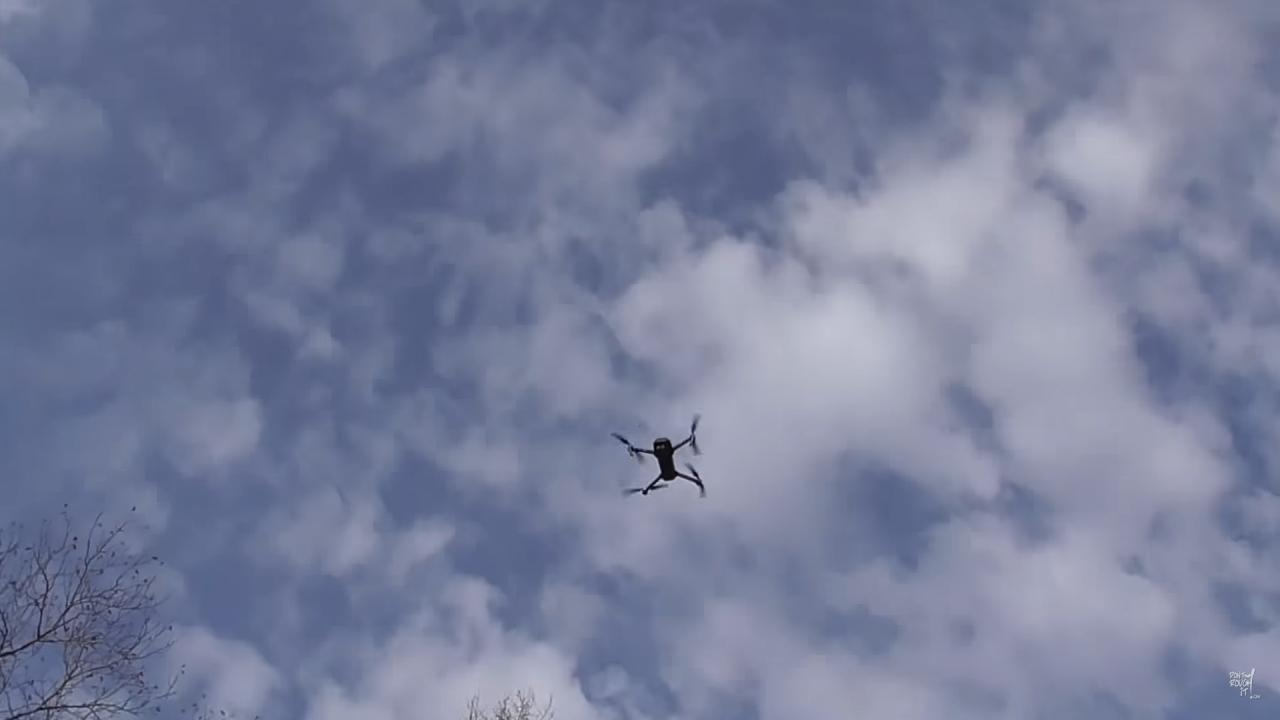Drone: (602, 403, 718, 516)
